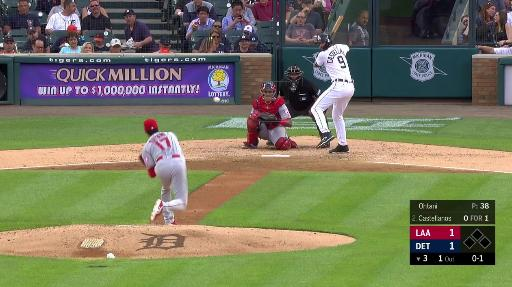pitcher: (136, 119, 190, 225)
